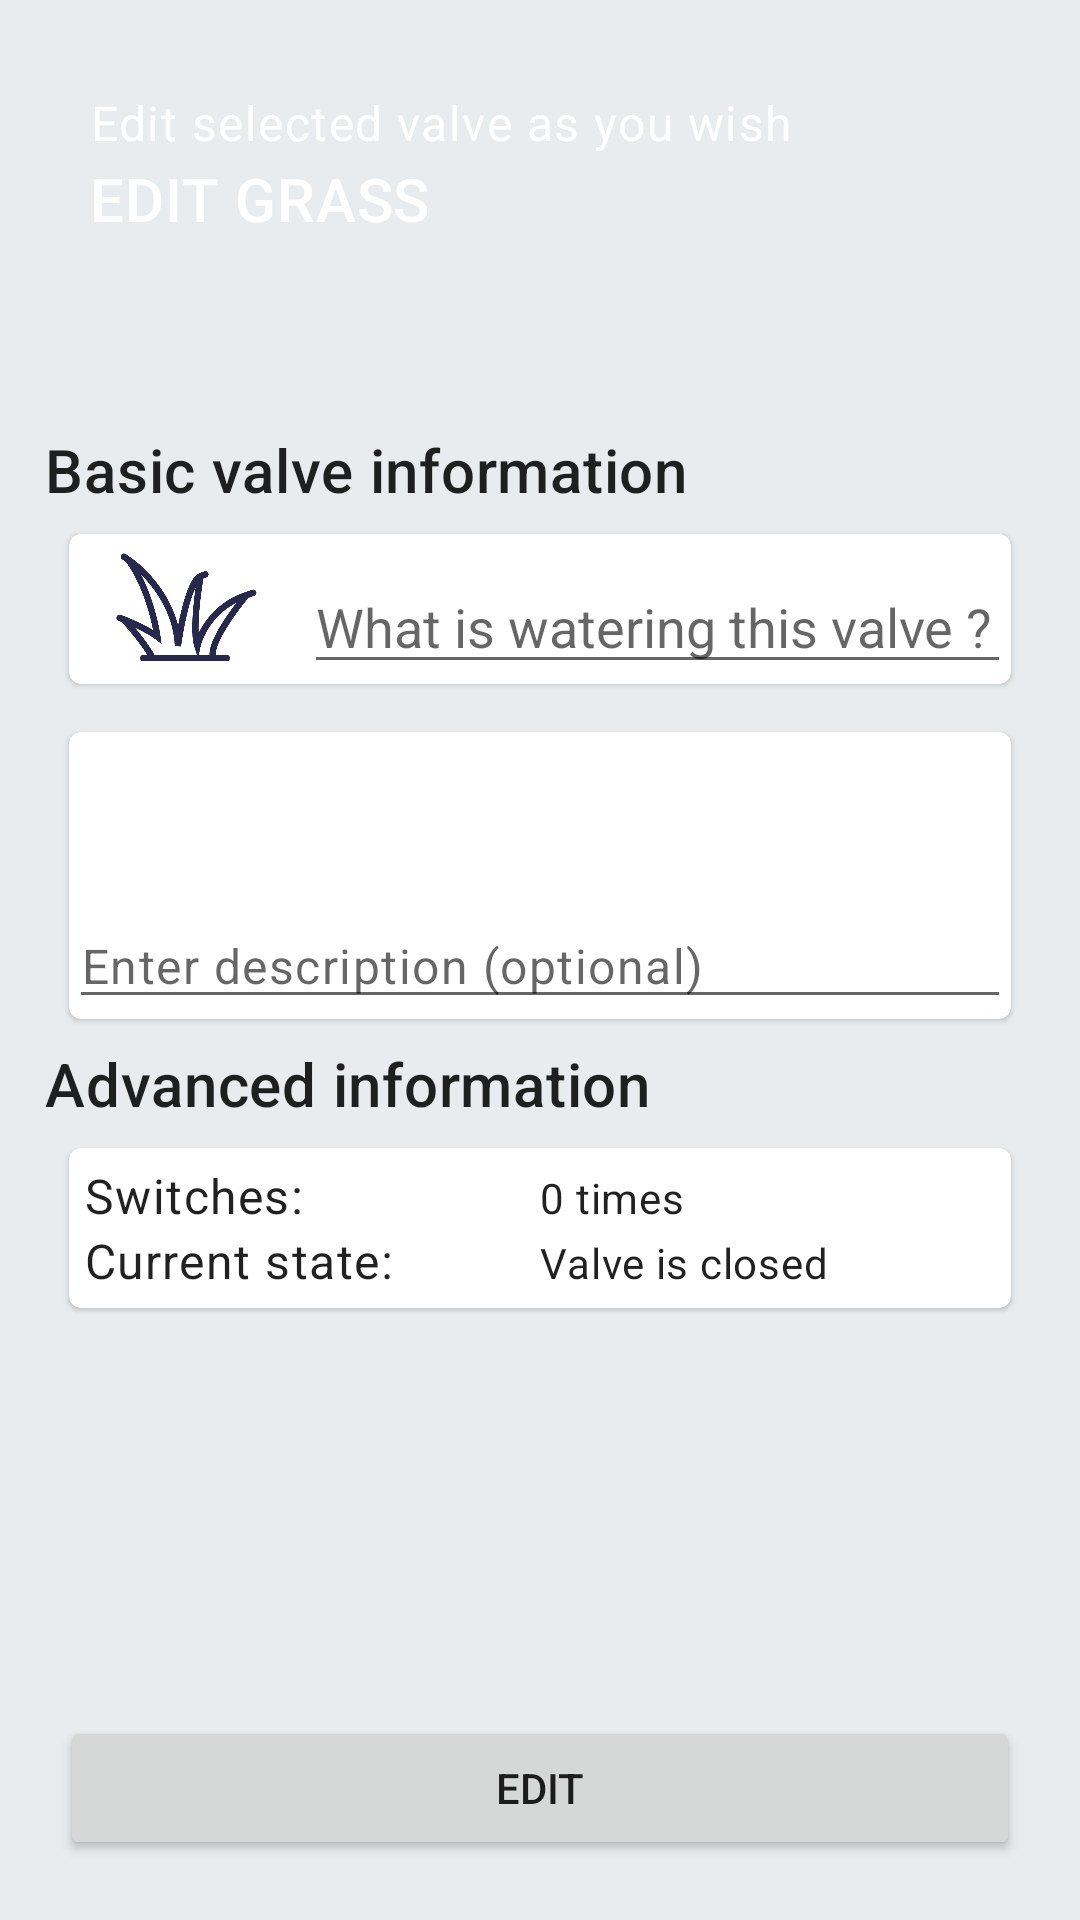

Point at icon controls on the screen. Image size 1080×1920, points as [x,y].
grass: [186,609]
